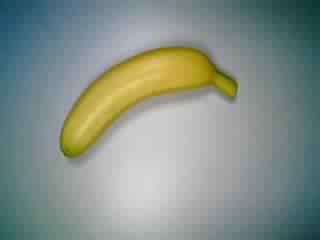banana: (56, 41, 241, 162)
